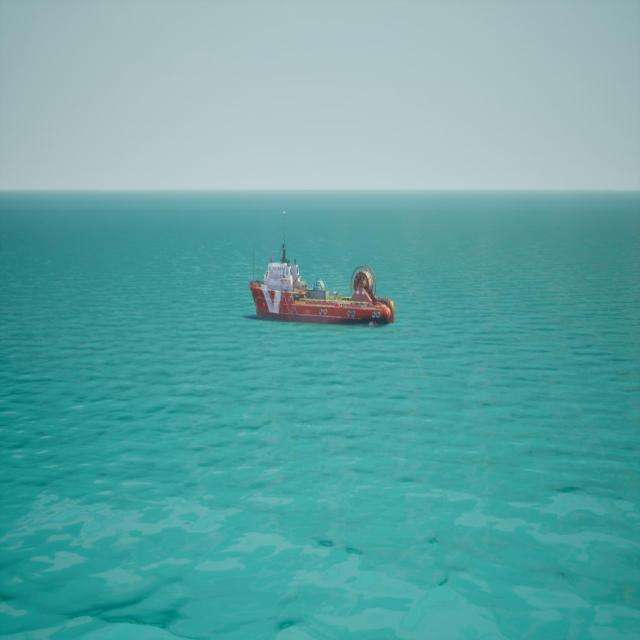tug boat: (248, 241, 397, 330)
